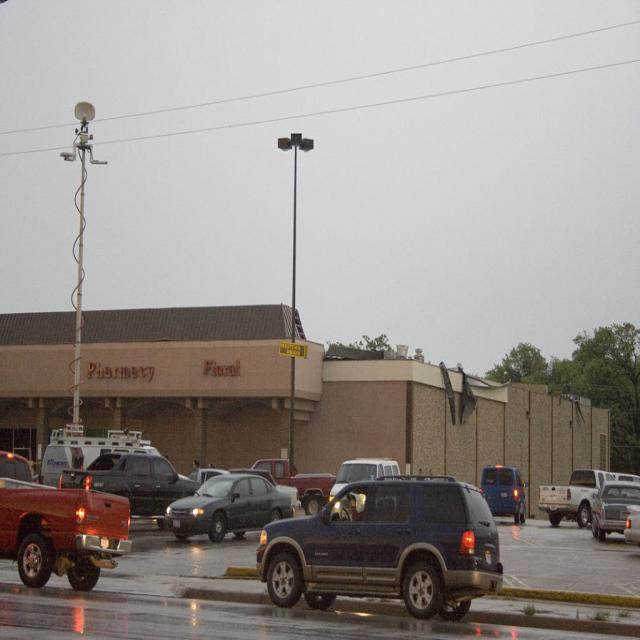car: (244, 463, 506, 629), (164, 473, 293, 544)
